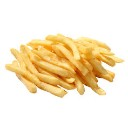frenchfries: (8, 32, 122, 96)
